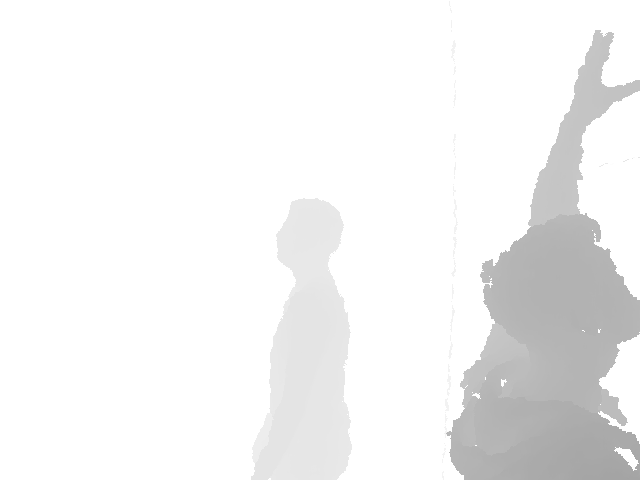hand: (570, 29, 640, 120)
head: (481, 213, 640, 380), (275, 197, 344, 280)
person: (446, 29, 640, 480), (249, 197, 354, 480)
